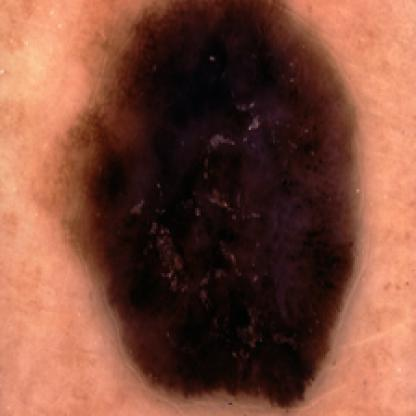malignant: (95, 7, 342, 408)
